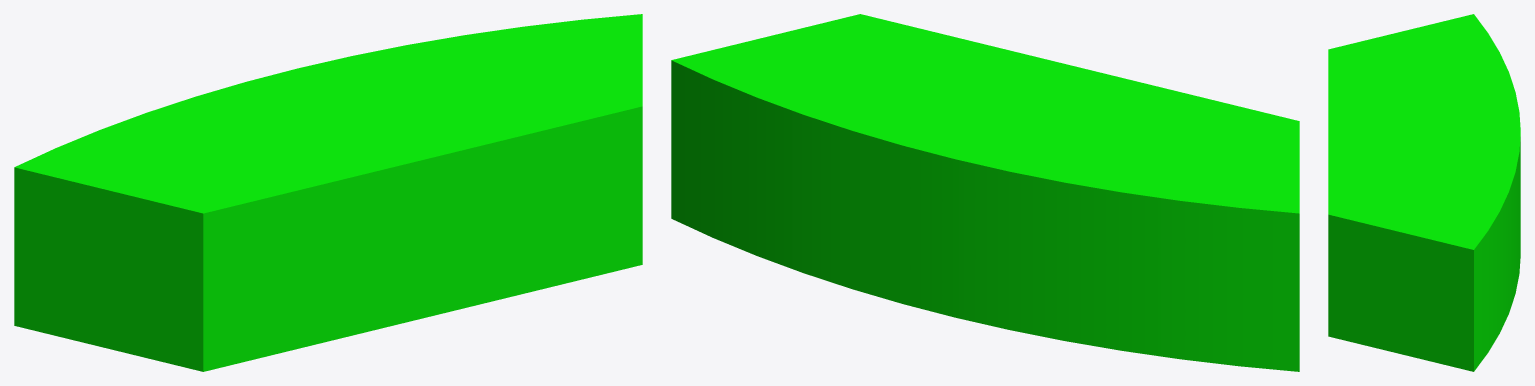
File: verde.obj
The picture shows the model from 3 angles, left to right: view 1: azimuth 30°, elevation 25°; view 2: azimuth 150°, elevation 25°; view 3: azimuth 270°, elevation 25°; orthographic projection. The views are drawn at different scales.
Parts seen in each view (by area): view 1: Mesh1 Group1 Model; view 2: Mesh1 Group1 Model; view 3: Mesh1 Group1 Model.
Part boxes in pixels (x1,y1,x2,y2): Mesh1 Group1 Model: (14, 14, 642, 371); Mesh1 Group1 Model: (671, 14, 1299, 371); Mesh1 Group1 Model: (1328, 14, 1520, 371).
Size of the model in its own units: 85.1 by 20.5 by 29.34.
